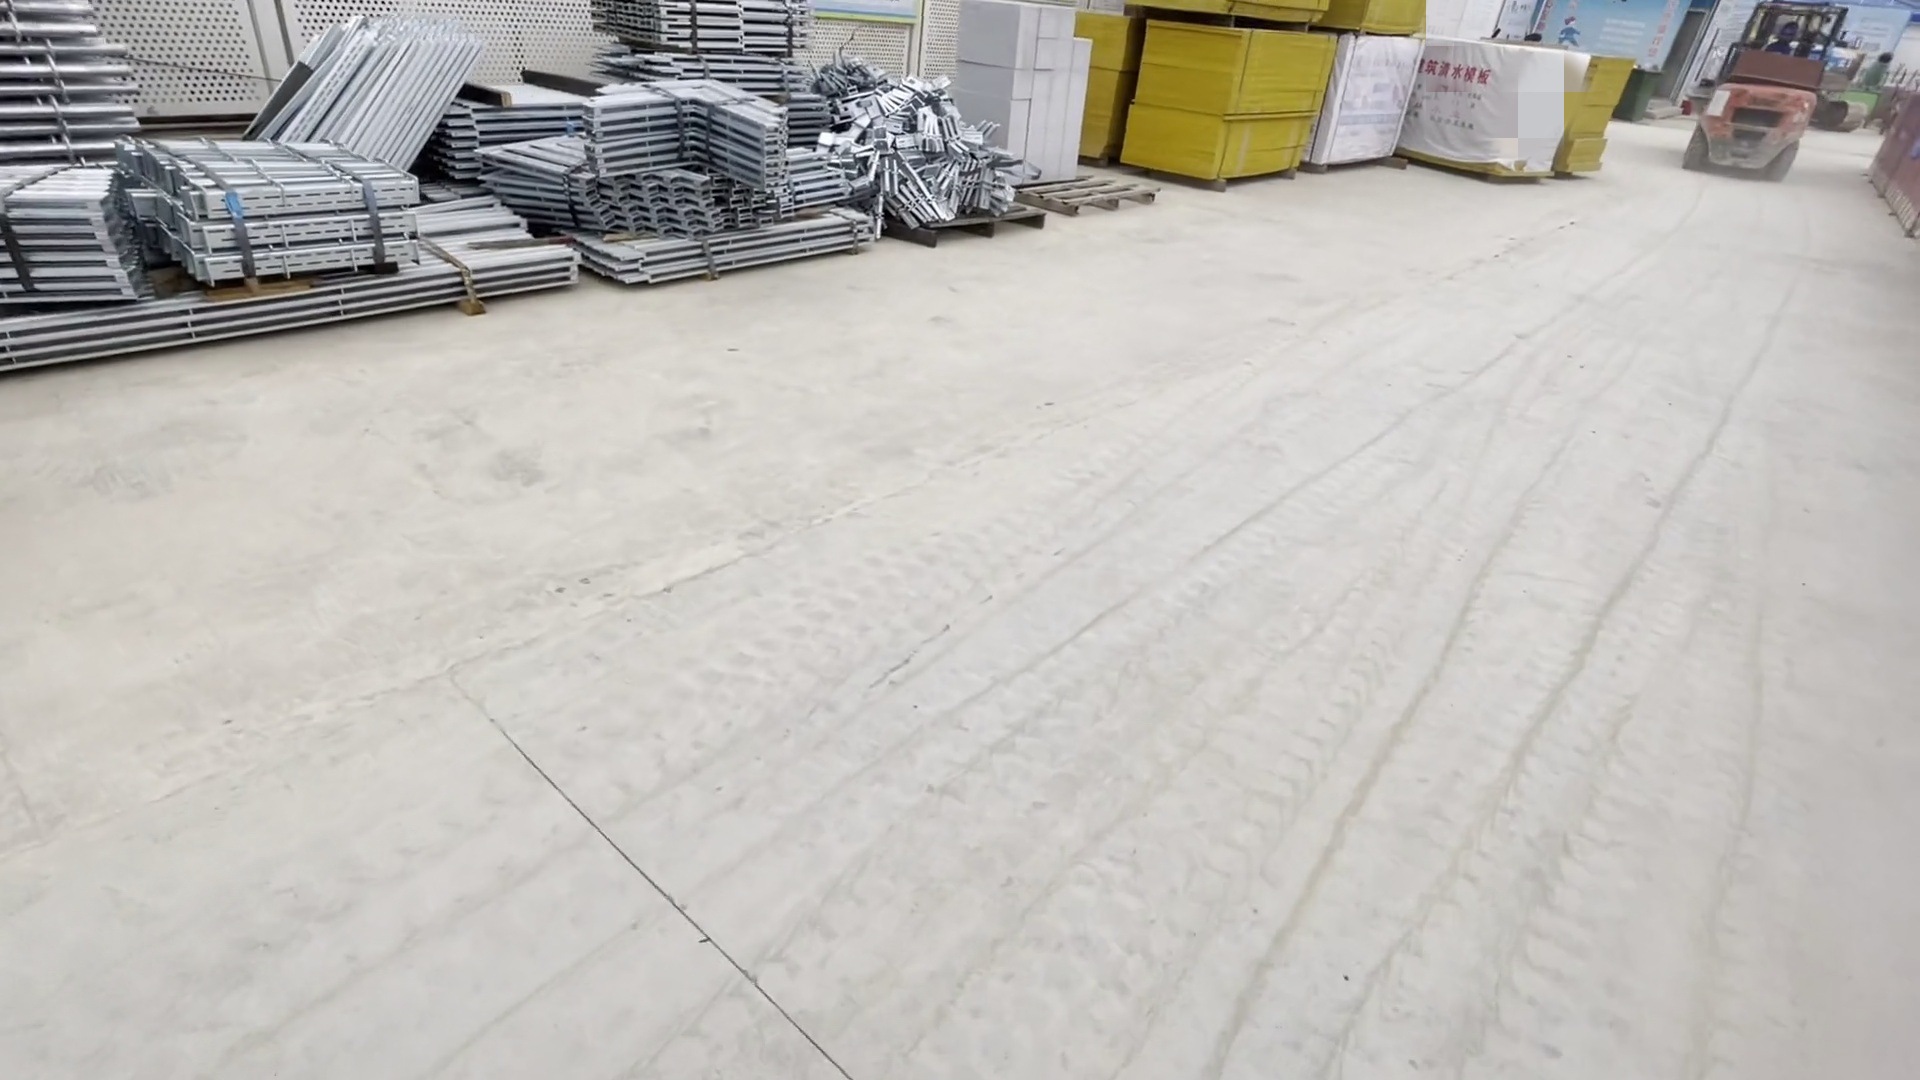board: (1095, 7, 1332, 200)
brick: (955, 1, 1083, 185)
scaffold: (1, 9, 1017, 371)
